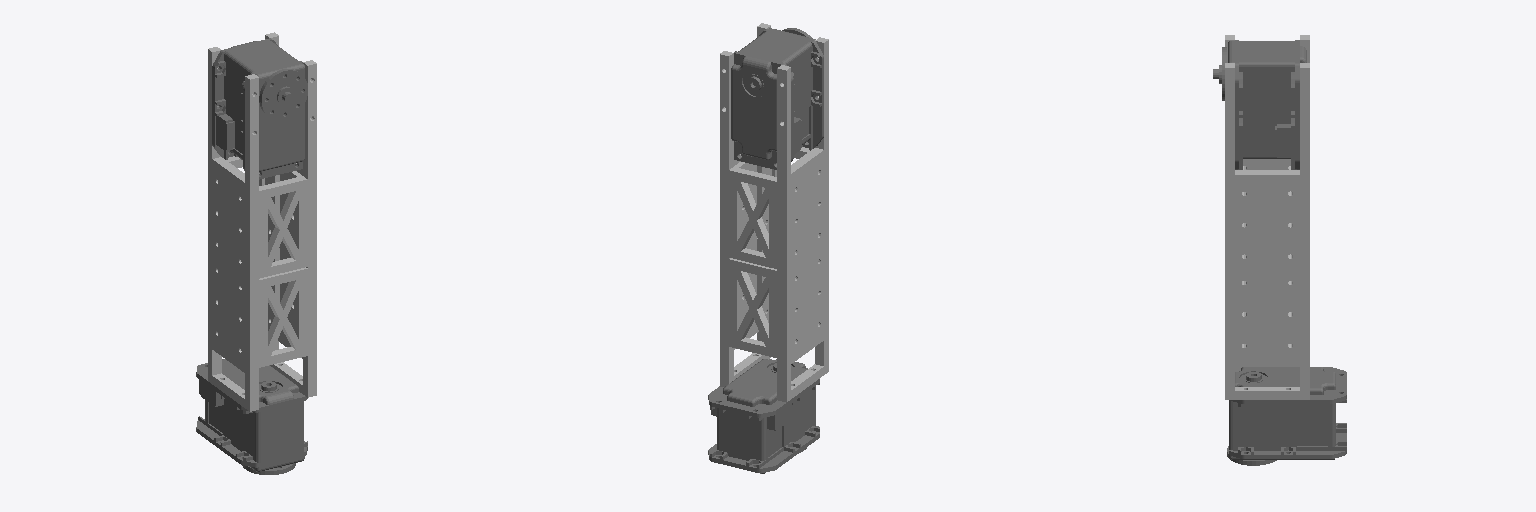
File: UpperArm.obj
The picture shows the model from 3 angles: view 1: azimuth 30°, elevation 25°; view 2: azimuth 150°, elevation 25°; view 3: azimuth 270°, elevation 25°; orthographic projection.
Size of the model in its own units: 4.02 by 23.6 by 6.91.